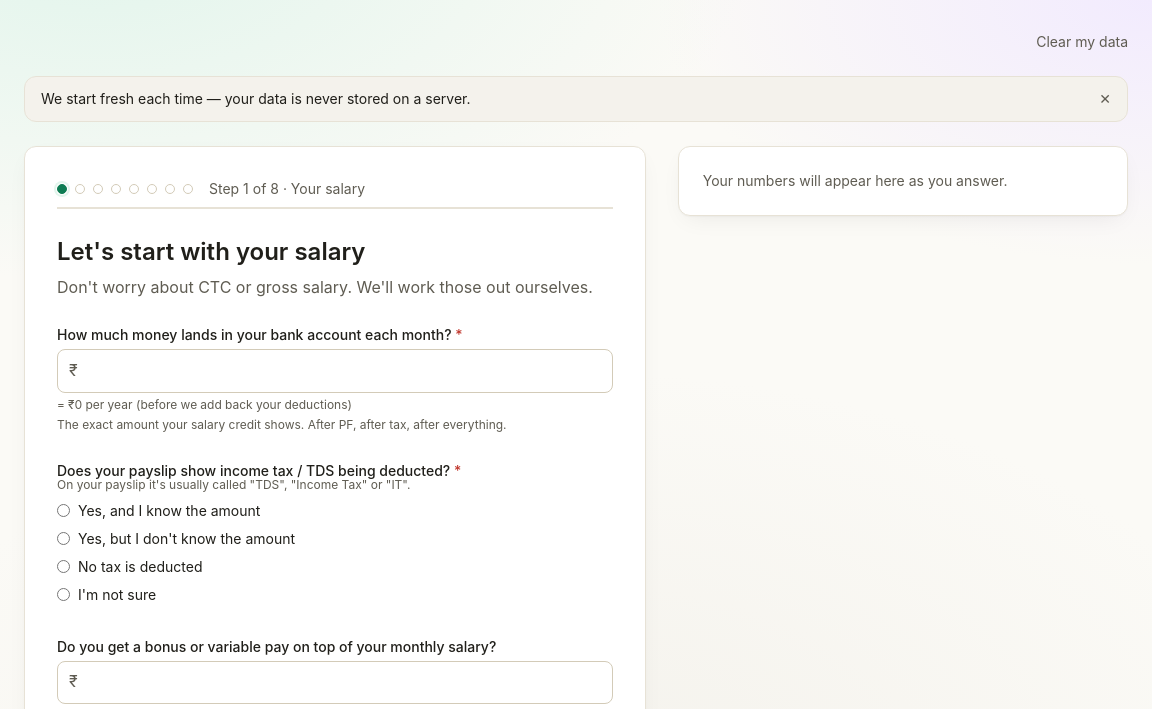
it: WizardShell — step 1 › populates the preview panel's gross salary as soon as monthly in-hand is entered
Type "100000" into the field labelled "How much money lands in your bank account each month? *". click: x=335, y=371
box: x1=57 y1=349 x2=613 y2=393
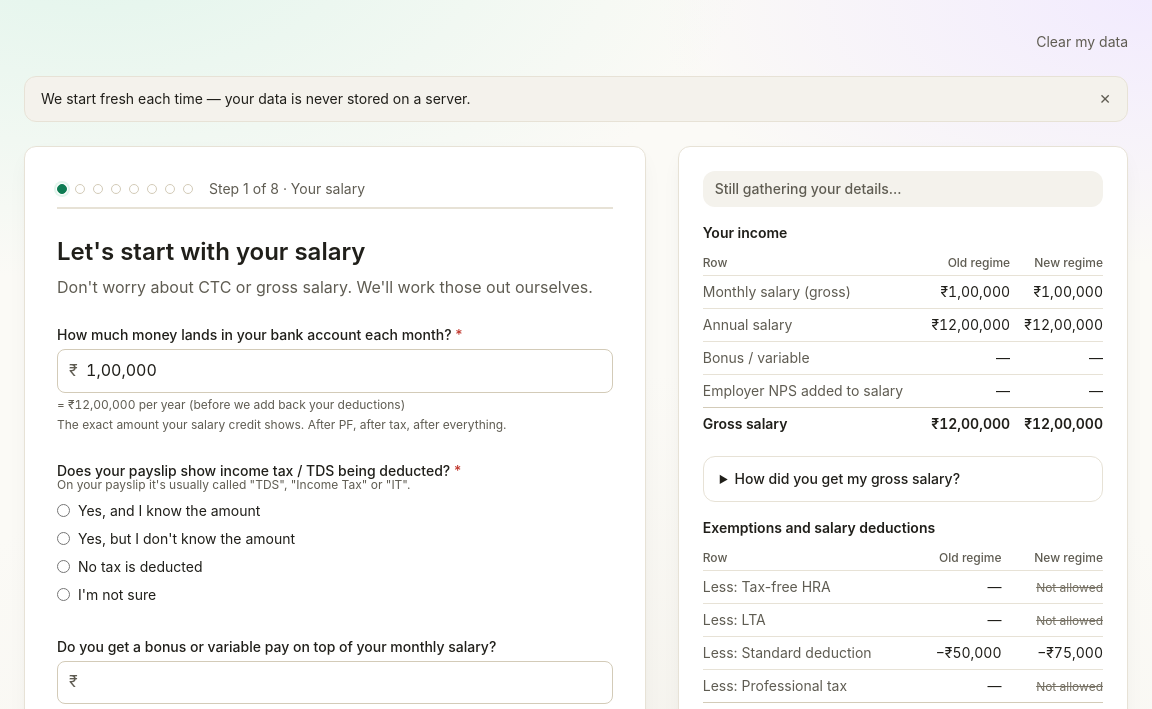
Check: the text "Your numbers will appear here as you answer." is gone
Check: the text "Gross salary" is shown, box x1=703 y1=408 x2=926 y2=440
